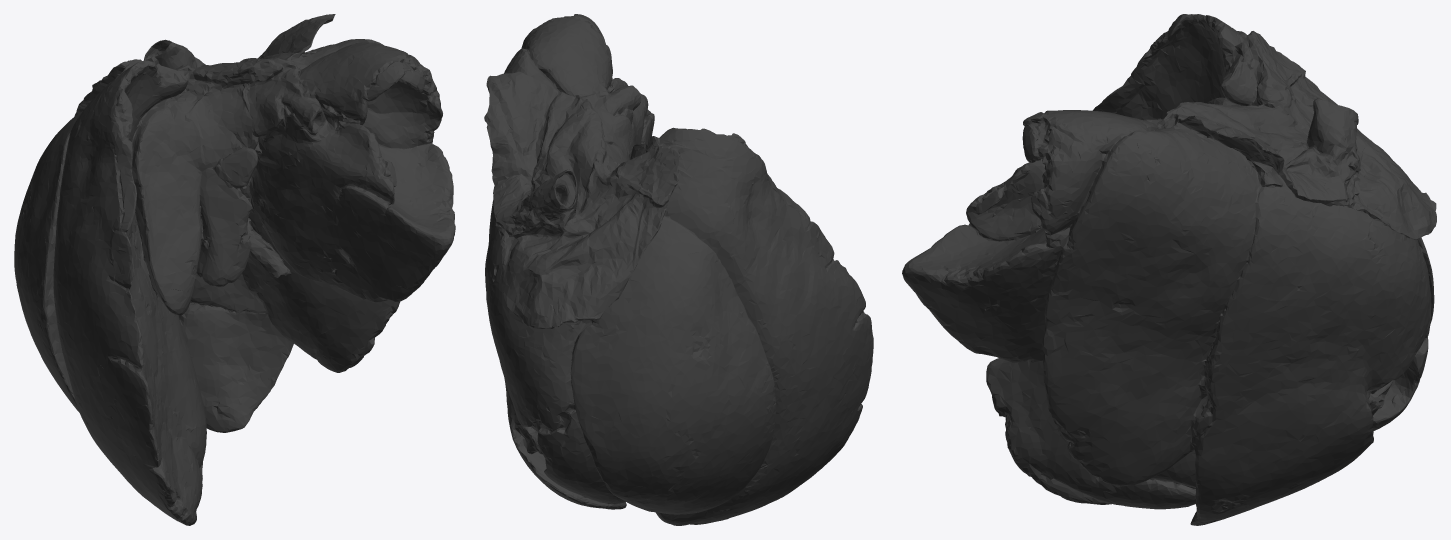
Rendered from Volume4.glb.
The picture shows the model from 3 angles, left to right: view 1: azimuth 30°, elevation 25°; view 2: azimuth 150°, elevation 25°; view 3: azimuth 270°, elevation 25°; orthographic projection. The views are drawn at different scales.
Visible parts, largest first — view 1: Volume4; view 2: Volume4; view 3: Volume4.
Boxes of the visible parts, x1,y1,x2,y2 form: Volume4: (14, 14, 455, 525); Volume4: (484, 14, 873, 525); Volume4: (902, 14, 1436, 525).
Bounding box in the file's own units: 147 × 181 × 176.
Materials: 1 (1 with a texture image).
